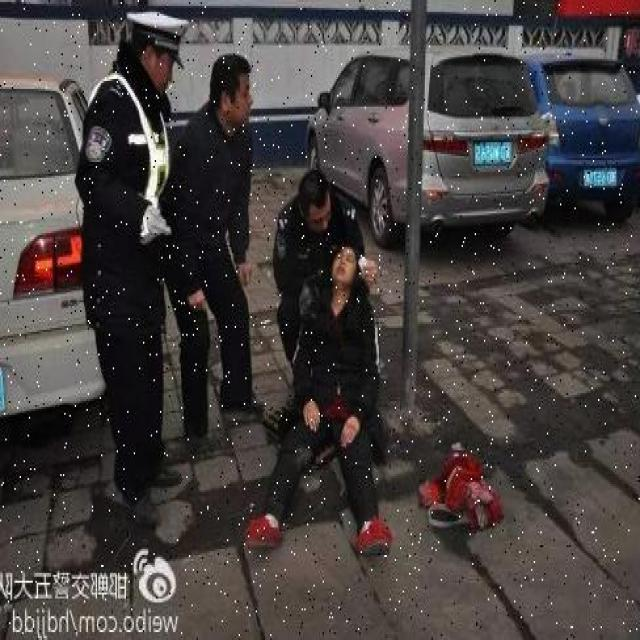fall: (250, 247, 374, 569)
